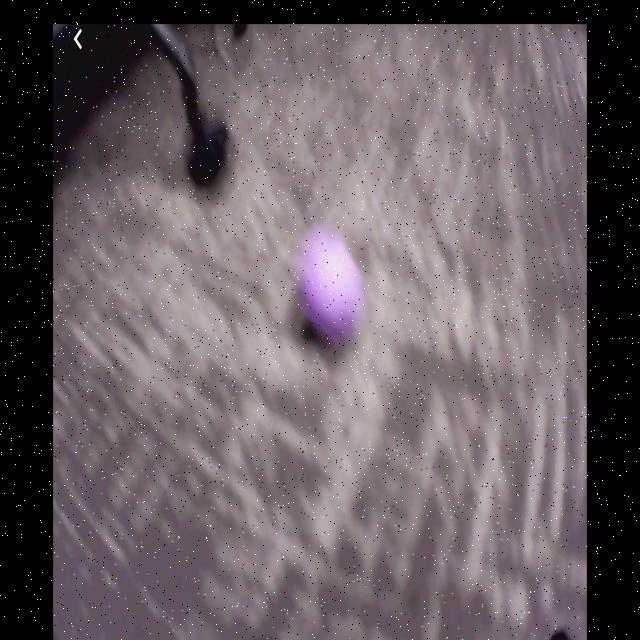ball: (303, 246, 362, 341)
